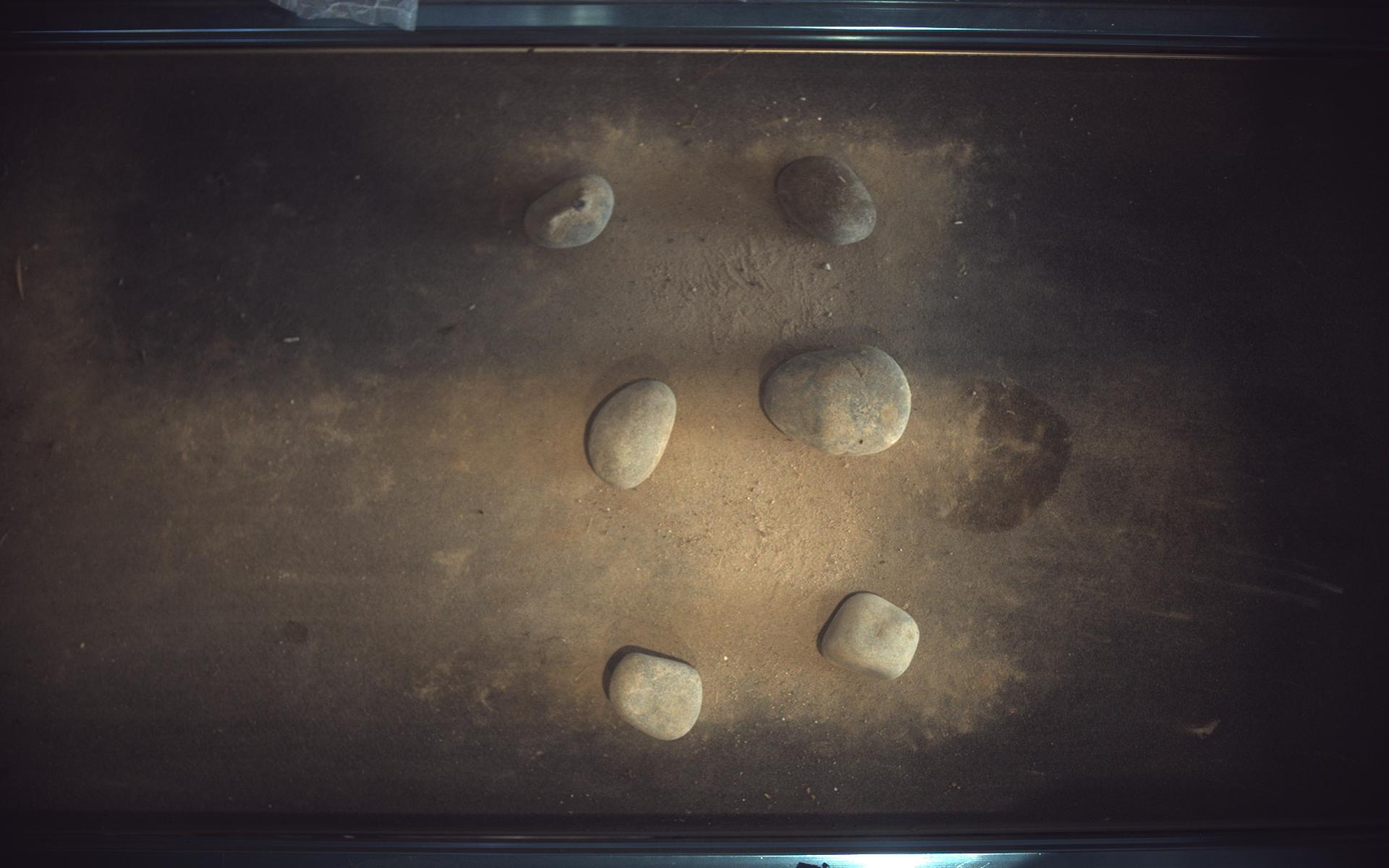stone: (764, 345, 913, 456), (587, 380, 678, 489), (777, 156, 878, 244), (822, 593, 922, 681), (610, 653, 704, 742), (524, 174, 615, 248)
